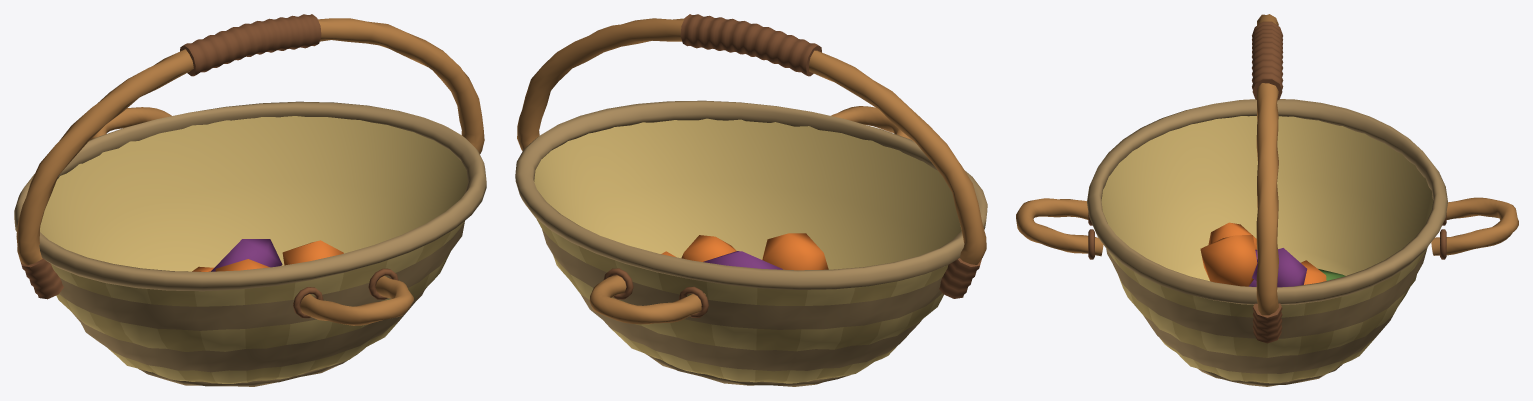
The model's file is carry_basket_open.fbx.
3 renders of one model, left to right at view 1: azimuth 30°, elevation 25°; view 2: azimuth 150°, elevation 25°; view 3: azimuth 270°, elevation 25°, orthographic. The views are drawn at different scales.
Parts seen in each view (by area): view 1: Carry_Basket_Open_Body, Carry_Basket_Open_Bail, Carry_Basket_Open_EarHandles, Carry_Basket_Open_Gathered; view 2: Carry_Basket_Open_Body, Carry_Basket_Open_Bail, Carry_Basket_Open_EarHandles, Carry_Basket_Open_Gathered; view 3: Carry_Basket_Open_Body, Carry_Basket_Open_Bail, Carry_Basket_Open_EarHandles, Carry_Basket_Open_Gathered.
Boxes of the visible parts, x1=… form: Carry_Basket_Open_Body: x1=14, y1=101, x2=486, y2=386; Carry_Basket_Open_Bail: x1=16, y1=14, x2=484, y2=299; Carry_Basket_Open_EarHandles: x1=90, y1=107, x2=413, y2=325; Carry_Basket_Open_Gathered: x1=192, y1=239, x2=343, y2=271; Carry_Basket_Open_Body: x1=515, y1=100, x2=987, y2=386; Carry_Basket_Open_Bail: x1=517, y1=14, x2=986, y2=298; Carry_Basket_Open_EarHandles: x1=589, y1=106, x2=911, y2=324; Carry_Basket_Open_Gathered: x1=661, y1=233, x2=828, y2=270; Carry_Basket_Open_Body: x1=1087, y1=99, x2=1447, y2=386; Carry_Basket_Open_Bail: x1=1252, y1=14, x2=1283, y2=343; Carry_Basket_Open_EarHandles: x1=1016, y1=197, x2=1518, y2=259; Carry_Basket_Open_Gathered: x1=1200, y1=222, x2=1345, y2=287.
Size of the model in its own units: 74.17 by 48.36 by 75.3.
